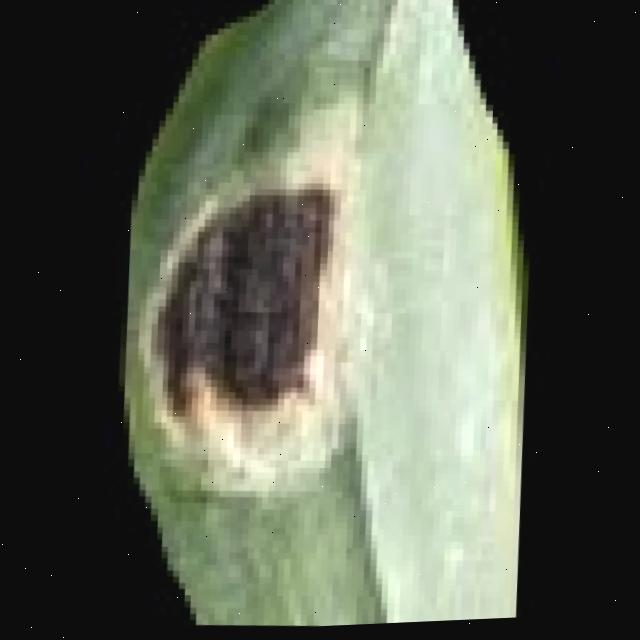mite: (191, 220, 284, 394), (157, 0, 287, 25)
sunburn: (140, 183, 335, 432)
